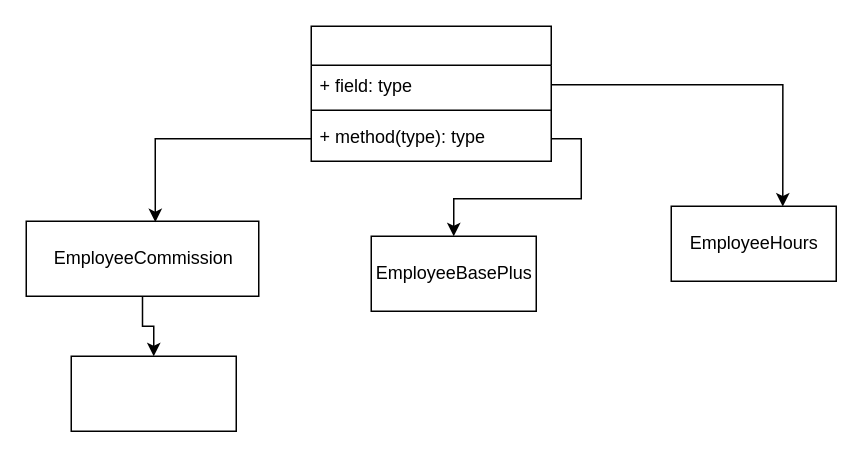
This 863x458 diagram has some shape labels left out. The box of each missing label's shape, as (x1, y1, x2, y2) in pixels:
Employee: (310, 25, 551, 161)
EmployeeSalaried: (70, 355, 236, 431)
